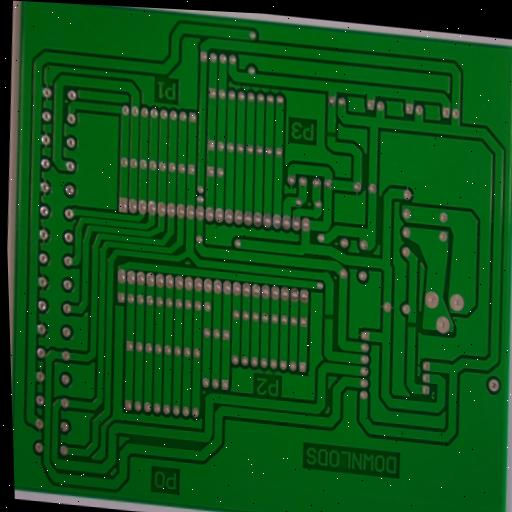open_circuit: (405, 317, 418, 332), (325, 128, 338, 142), (323, 311, 335, 323)
